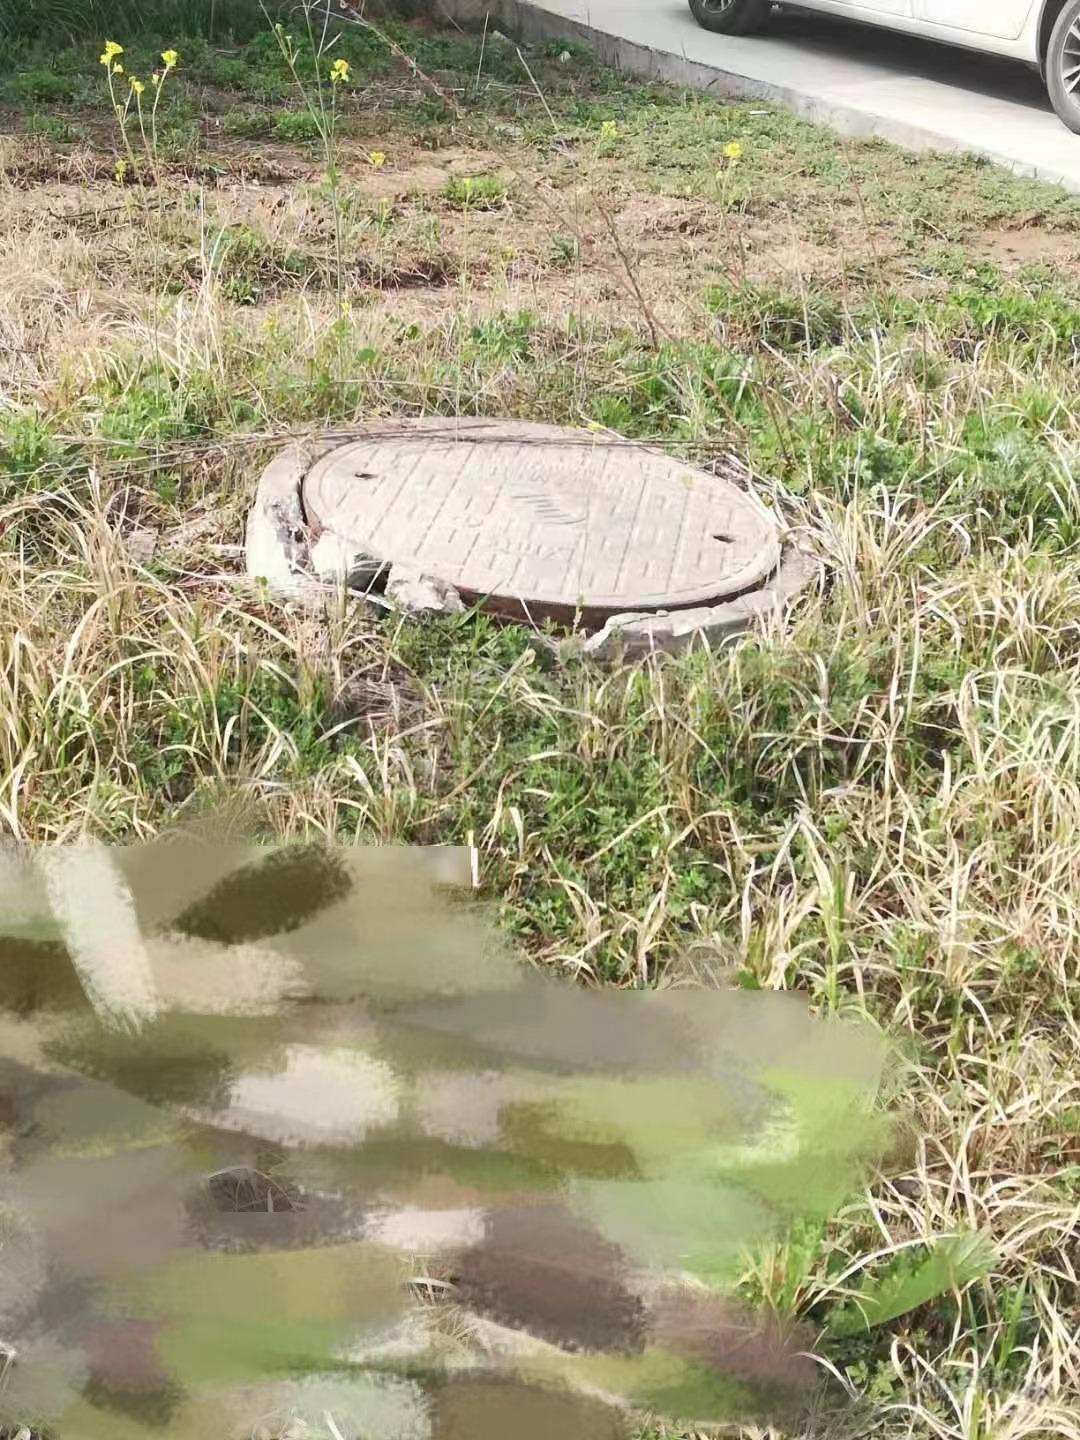wellcover: (211, 395, 836, 680)
